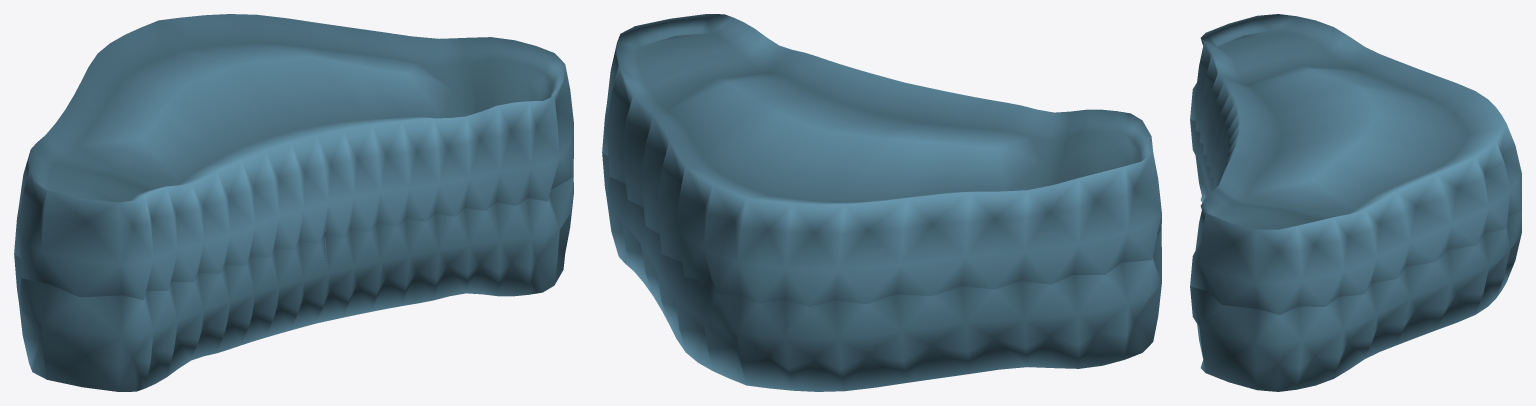
File: microscopic-plankton-boat-diatom_v1.glb
3 views of the same model, side by side, from view 1: azimuth 30°, elevation 25°; view 2: azimuth 150°, elevation 25°; view 3: azimuth 270°, elevation 25° (orthographic). The views are drawn at different scales.
Parts seen in each view (by area): view 1: Boat Diatom; view 2: Boat Diatom; view 3: Boat Diatom.
Boxes of the visible parts, x1,y1,x2,y2 form: Boat Diatom: (14,14,573,391); Boat Diatom: (602,14,1161,391); Boat Diatom: (1190,14,1521,391).
Bounding box in the file's own units: 0.5 × 0.1849 × 0.3128.
